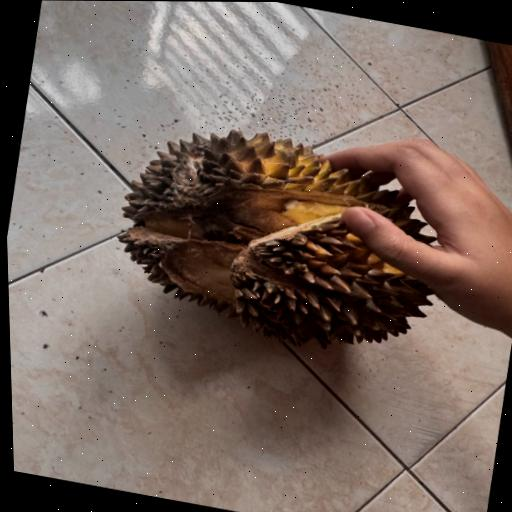rot: (89, 103, 471, 383)
